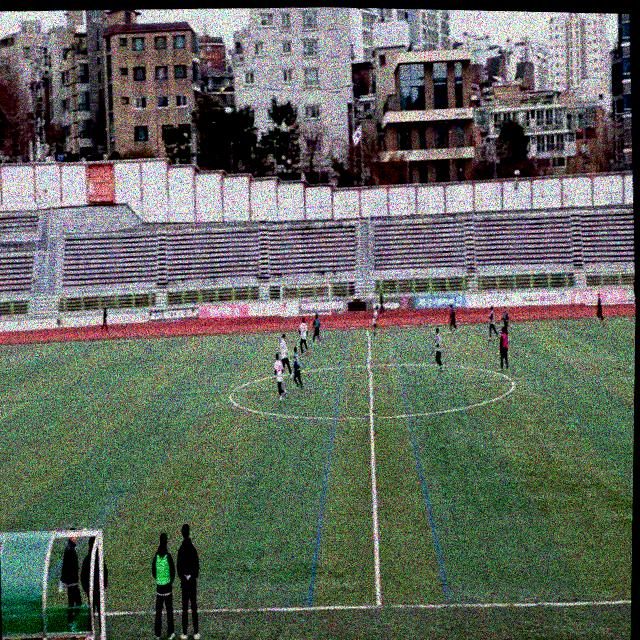halfcircle_bottom: (364, 408, 378, 426)
halfcircle_top: (364, 358, 374, 371)
midline_top_intersection: (364, 322, 371, 336)
